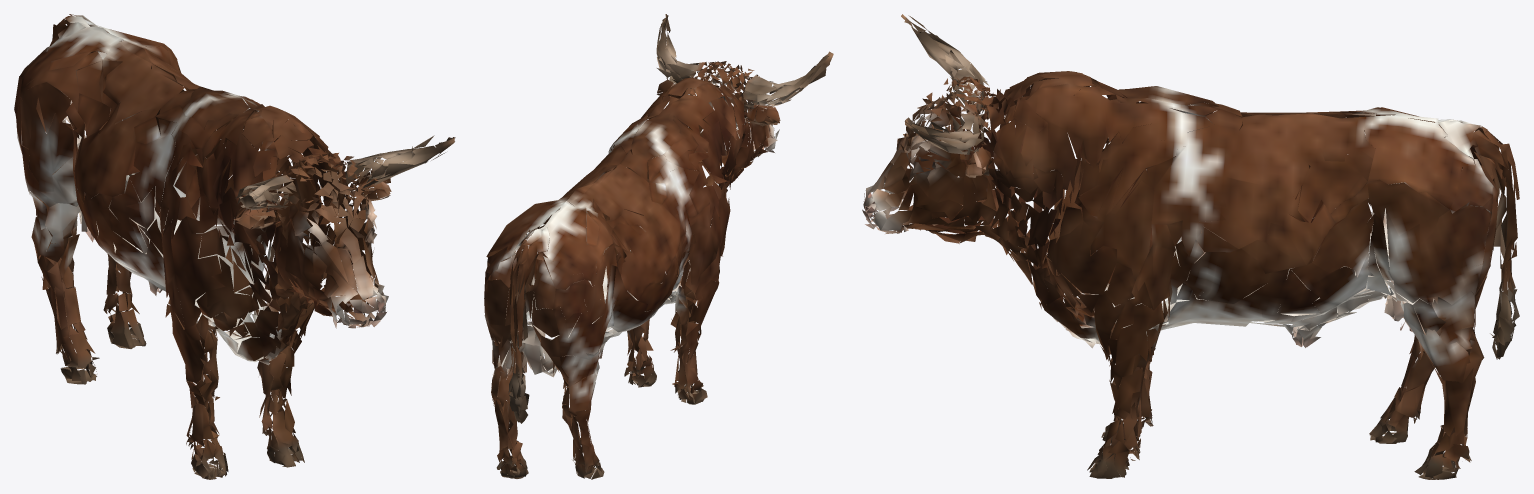
Rendered from bull.glb.
The picture shows the model from 3 angles, left to right: view 1: azimuth 30°, elevation 25°; view 2: azimuth 150°, elevation 25°; view 3: azimuth 270°, elevation 25°; orthographic projection. The views are drawn at different scales.
Parts seen in each view (by area): view 1: LO.001; view 2: LO.001; view 3: LO.001.
Part boxes in pixels (<box>): LO.001: <box>14,14,455,479</box>; LO.001: <box>484,14,833,479</box>; LO.001: <box>862,14,1519,479</box>.
Bounding box in the file's own units: 0.7356 × 1.25 × 1.9.
1 material, 1 textured.
